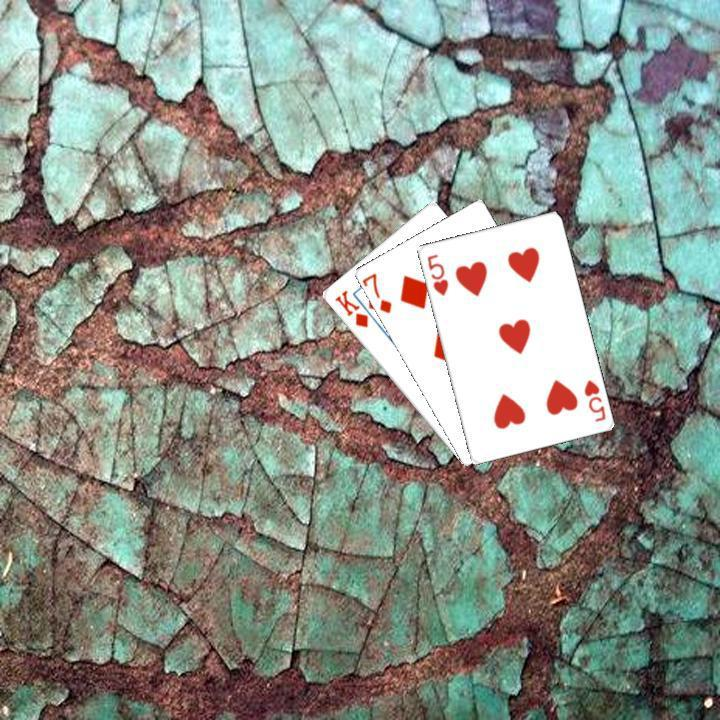5: (579, 375, 607, 424), (422, 249, 450, 297)
7: (359, 268, 394, 316)
K: (330, 286, 370, 330)
